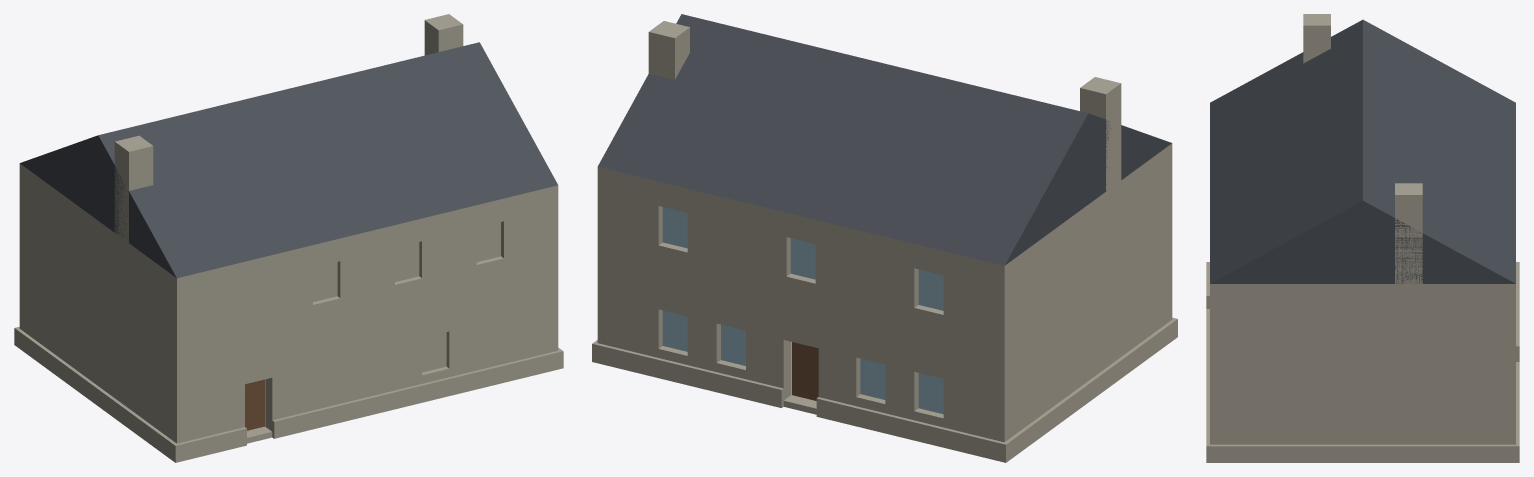
3 views of the same model, side by side, from view 1: azimuth 30°, elevation 25°; view 2: azimuth 150°, elevation 25°; view 3: azimuth 270°, elevation 25° (orthographic). The views are drawn at different scales.
Parts seen in each view (by area): view 1: body_stone, roof_slate, trim_stone, door_timber; view 2: body_stone, roof_slate, trim_stone, glass_glass (×7), door_timber; view 3: roof_slate, body_stone, trim_stone.
Part boxes in pixels (x1,y1,x2,y2): body_stone: [19, 14, 558, 443]; roof_slate: [20, 42, 557, 278]; trim_stone: [14, 327, 563, 462]; door_timber: [245, 379, 264, 430]; body_stone: [597, 21, 1172, 442]; roof_slate: [598, 14, 1171, 265]; trim_stone: [592, 317, 1177, 462]; glass_glass (×7): [662, 207, 943, 414]; door_timber: [792, 342, 818, 400]; roof_slate: [1210, 19, 1515, 283]; body_stone: [1210, 14, 1515, 444]; trim_stone: [1206, 262, 1519, 462].
Size of what is drawn, in the model's own units: 14.24 by 9.6 by 10.24.
